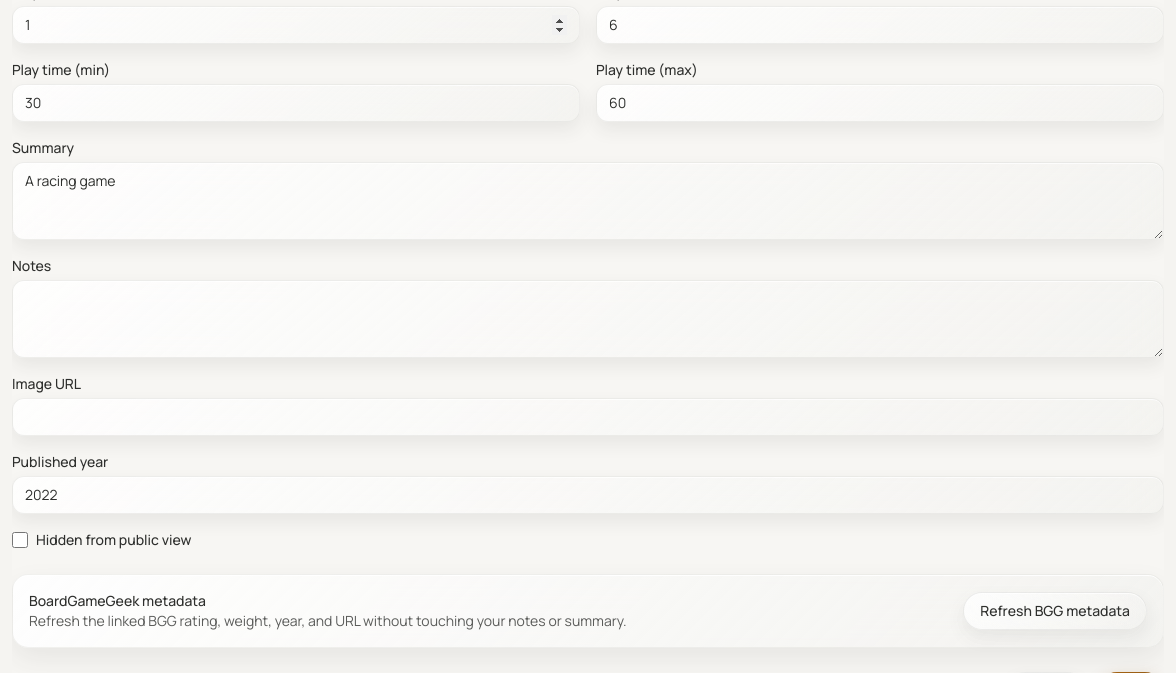
Test: GameForm BGG refresh › shows a friendly error when the BGG lookup fails
(page scrolled)
Click the button "Refresh BGG metadata".
click(1055, 611)  # box [963,592,1147,630]
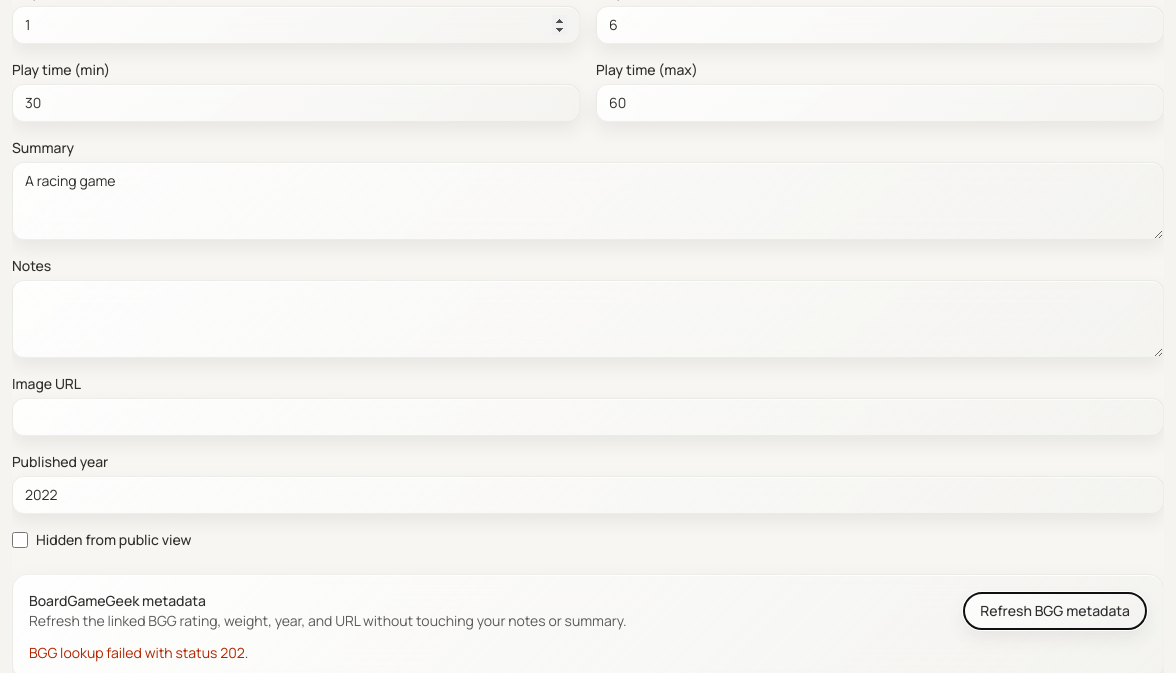
Check: the text "BGG lookup failed with status 202." is shown, box [29,643,248,662]
